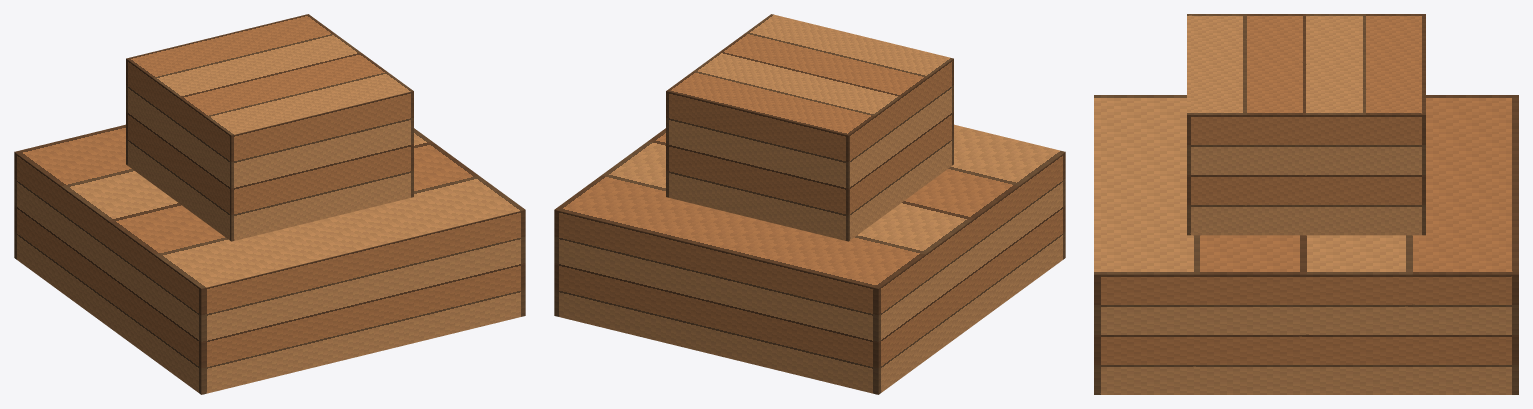
File: crate.glb
The picture shows the model from 3 angles, left to right: view 1: azimuth 30°, elevation 25°; view 2: azimuth 150°, elevation 25°; view 3: azimuth 270°, elevation 25°; orthographic projection. The views are drawn at different scales.
Parts seen in each view (by area): view 1: Base, Lid; view 2: Base, Lid; view 3: Base, Lid.
Boxes of the visible parts, <box> form: Base: <box>14,124,525,394</box>; Lid: <box>126,14,413,241</box>; Base: <box>554,124,1065,394</box>; Lid: <box>666,14,953,241</box>; Base: <box>1094,95,1518,394</box>; Lid: <box>1187,14,1425,235</box>.
Bounding box in the file's own units: 1.6 × 1 × 1.6.
Materials: 1 (1 with a texture image).
